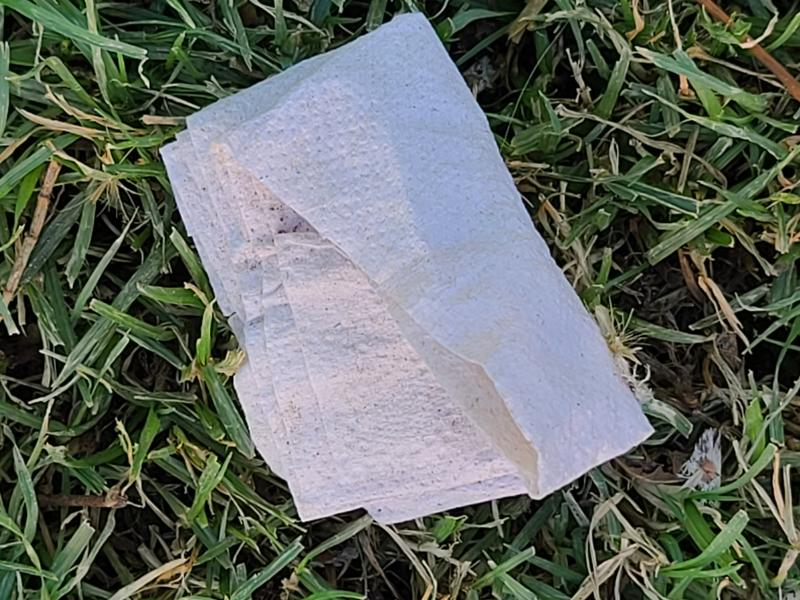papel: (158, 12, 656, 529)
